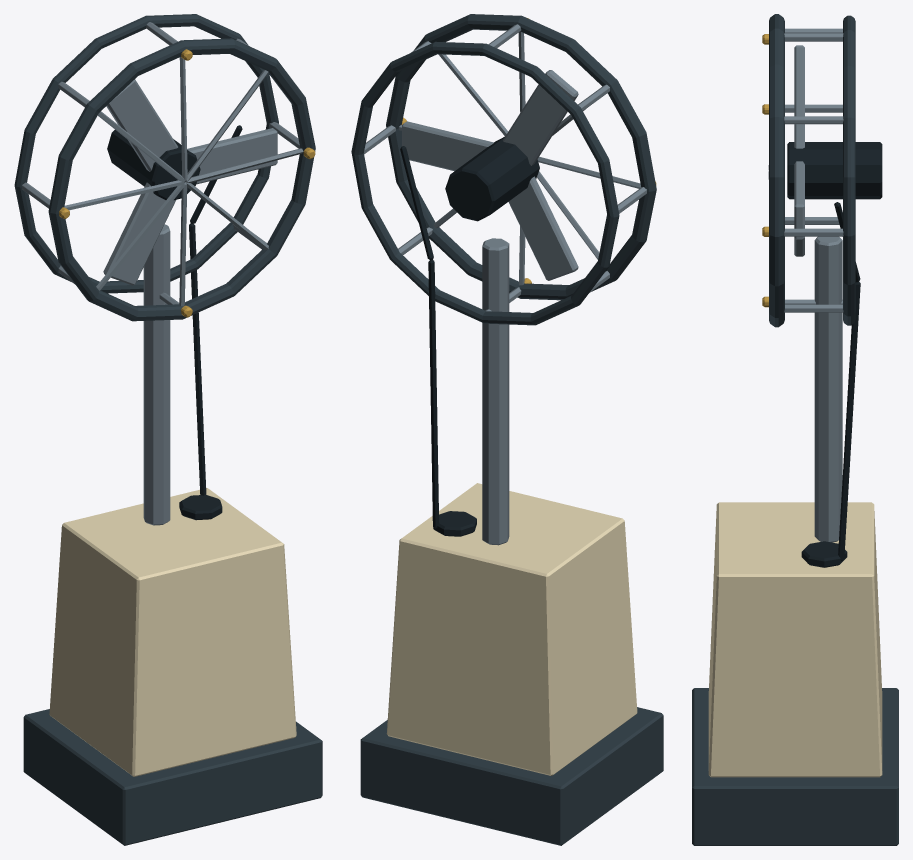
Rendered from b20_outdoor_event_misting_fan.glb.
The picture shows the model from 3 angles, left to right: view 1: azimuth 30°, elevation 25°; view 2: azimuth 150°, elevation 25°; view 3: azimuth 270°, elevation 25°; orthographic projection. The views are drawn at different scales.
Parts seen in each view (by area): view 1: b20_outdoor_event_misting_fan; view 2: b20_outdoor_event_misting_fan; view 3: b20_outdoor_event_misting_fan.
Part boxes in pixels (x1,y1,x2,y2): b20_outdoor_event_misting_fan: [14, 14, 322, 845]; b20_outdoor_event_misting_fan: [351, 14, 663, 845]; b20_outdoor_event_misting_fan: [692, 14, 898, 845].
Size of the model in its own units: 0.7577 by 2.05 by 0.5.
